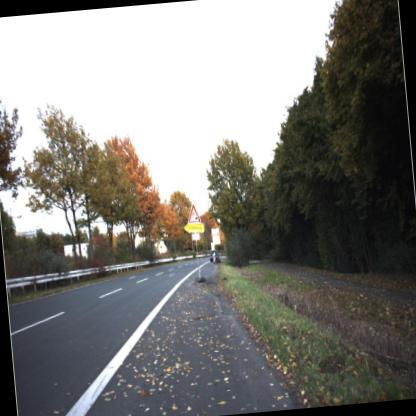danger: (184, 202, 204, 229)
